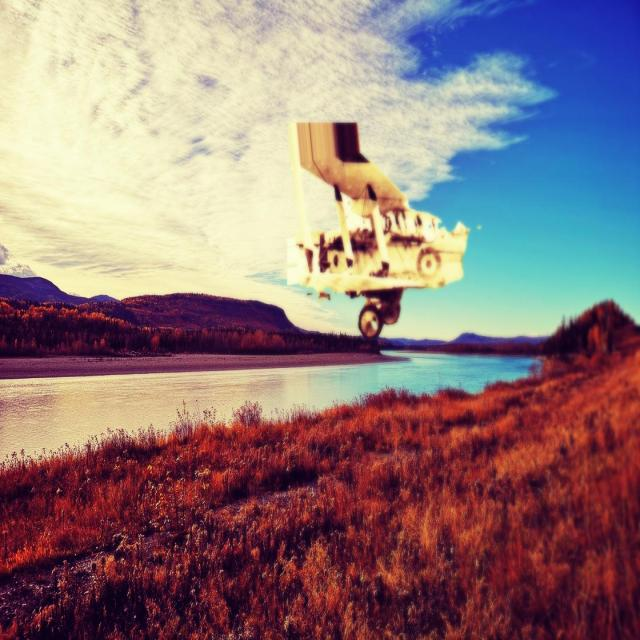airplane: (285, 120, 470, 340)
